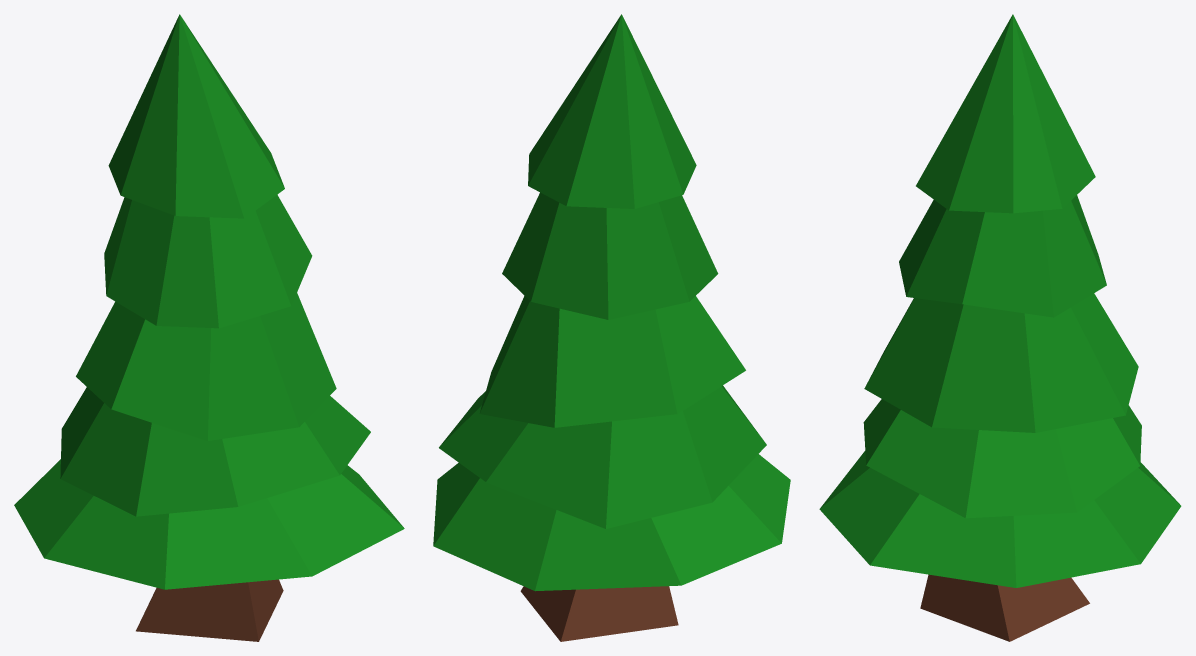
Rendered from Pine.fbx.
3 views of the same model, side by side, from view 1: azimuth 30°, elevation 25°; view 2: azimuth 150°, elevation 25°; view 3: azimuth 270°, elevation 25° (orthographic). The views are drawn at different scales.
Parts seen in each view (by area): view 1: Cube.003; view 2: Cube.003; view 3: Cube.003.
Boxes of the visible parts, x1,y1,x2,y2 form: Cube.003: [14, 14, 404, 641]; Cube.003: [433, 14, 790, 641]; Cube.003: [819, 14, 1181, 641].
Size of the model in its own units: 708 by 1234 by 699.
